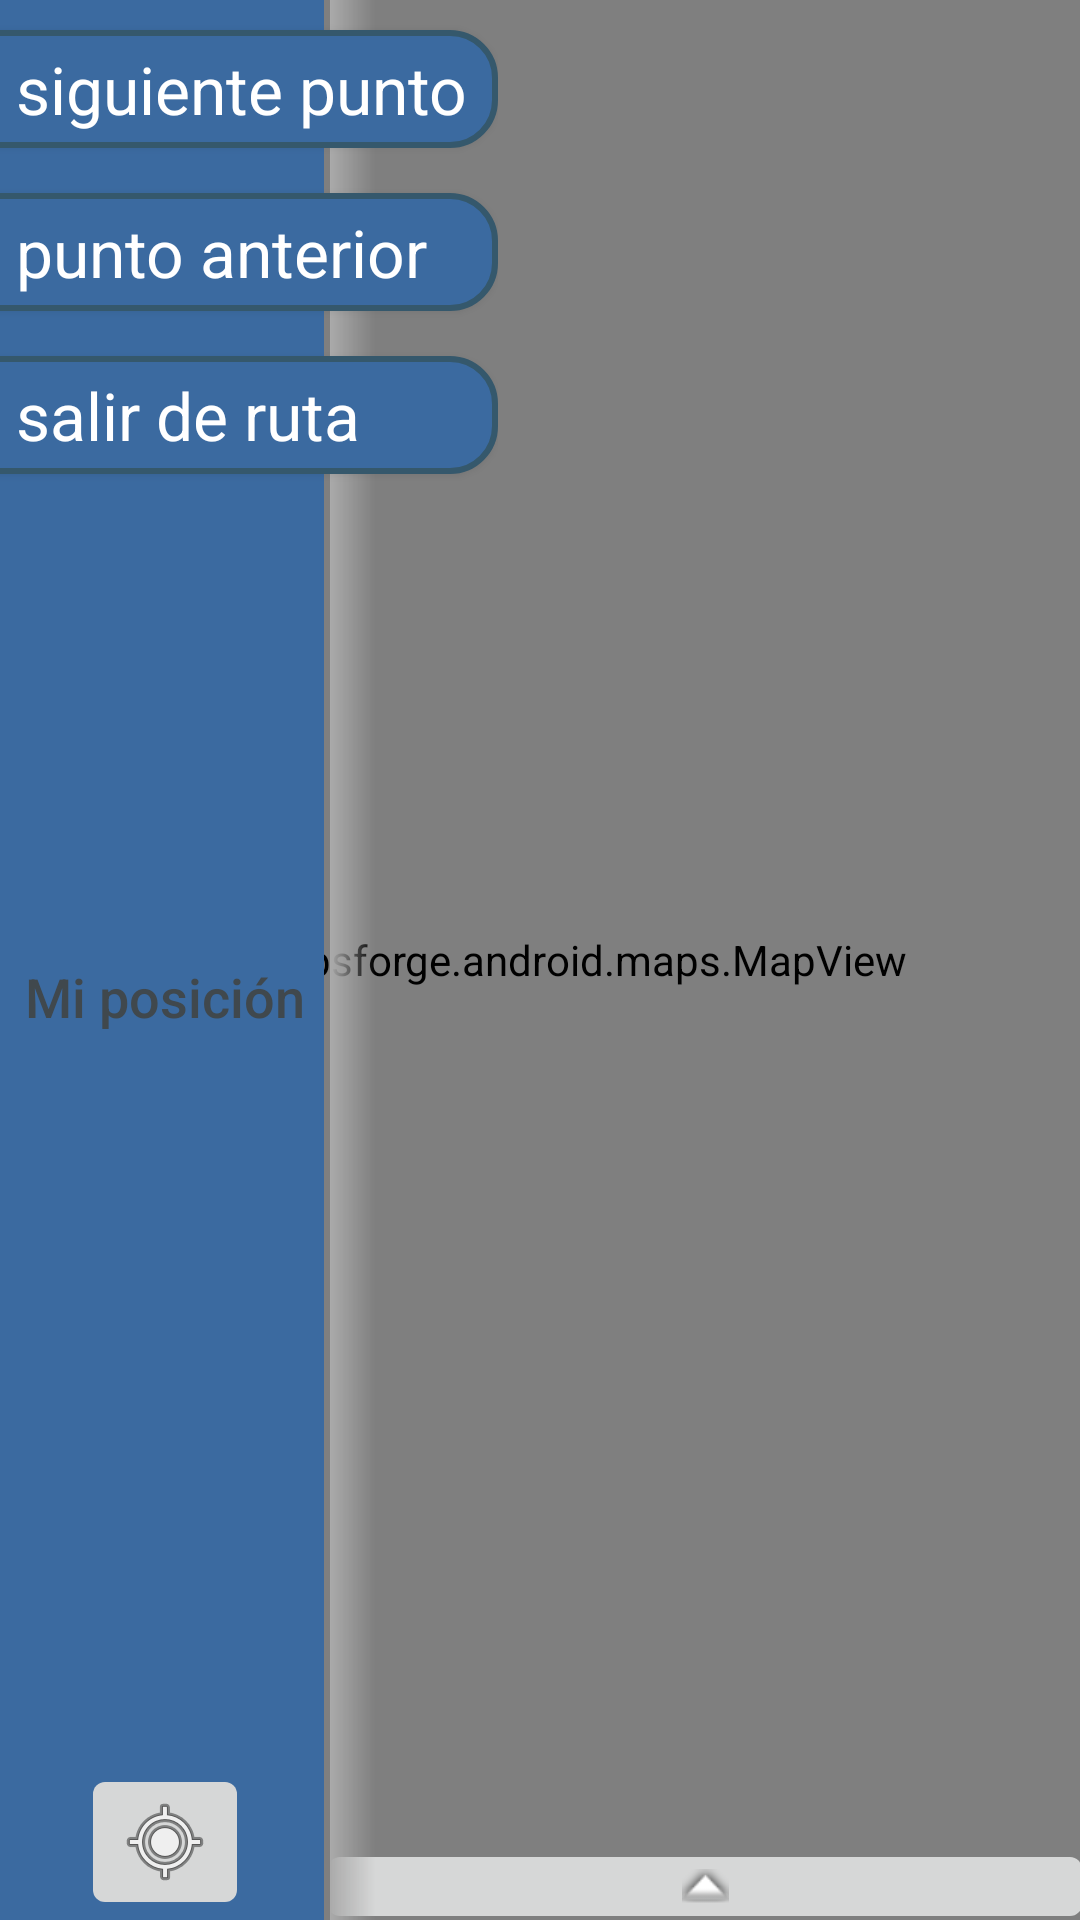

Screen size 1080 x 1920. Icon name, then its box in pixels as {"left": x1, "top": y1, "right": x2, "bottom": y2}:
Ir a: {"left": 93, "top": 1782, "right": 237, "bottom": 1902}
